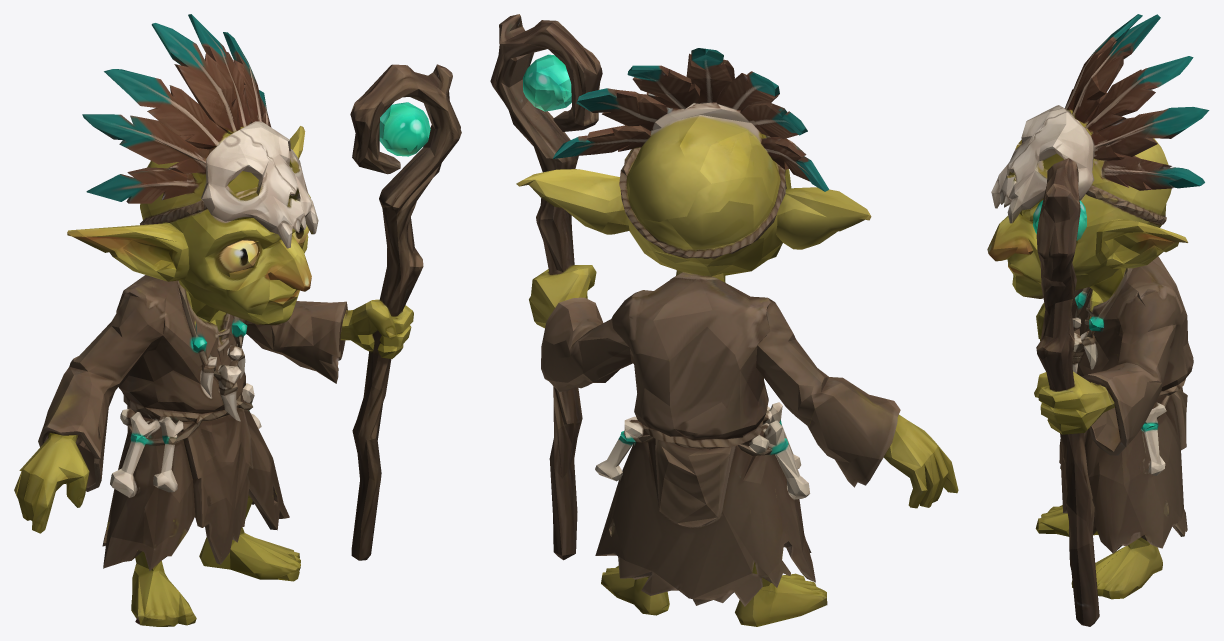
File: Goblin_Shaman.fbx
3 renders of one model, left to right at view 1: azimuth 30°, elevation 25°; view 2: azimuth 150°, elevation 25°; view 3: azimuth 270°, elevation 25°, orthographic. The views are drawn at different scales.
Visible parts, largest first — view 1: output_unwrapped; view 2: output_unwrapped; view 3: output_unwrapped.
Boxes of the visible parts, x1,y1,x2,y2 form: output_unwrapped: (14,14,461,626); output_unwrapped: (490,14,958,626); output_unwrapped: (987,14,1209,626).
Bounding box in the file's own units: 157 × 190 × 72.26.
1 material, 1 textured.
